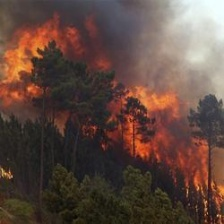fire: (3, 26, 223, 224)
smoke: (90, 1, 186, 84)
